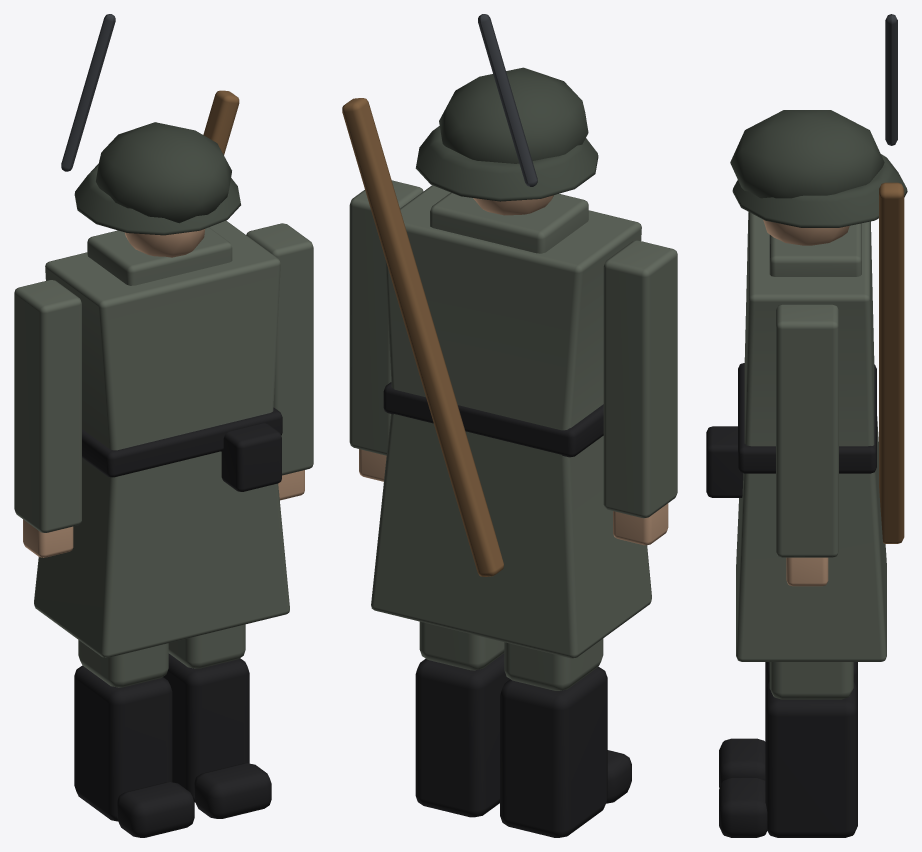
The model's file is soldaat.glb.
The picture shows the model from 3 angles, left to right: view 1: azimuth 30°, elevation 25°; view 2: azimuth 150°, elevation 25°; view 3: azimuth 270°, elevation 25°; orthographic projection. The views are drawn at different scales.
Visible parts, largest first — view 1: Soldaat, LegL, LegR; view 2: Soldaat, LegL, LegR; view 3: Soldaat, LegR, LegL.
Boxes of the visible parts, left/top/right/bottom form: Soldaat: left=14, top=14, right=313, bottom=657; LegL: left=74, top=640, right=194, bottom=837; LegR: left=163, top=624, right=271, bottom=818; Soldaat: left=342, top=14, right=677, bottom=658; LegL: left=500, top=639, right=631, bottom=837; LegR: left=415, top=621, right=509, bottom=817; Soldaat: left=706, top=14, right=907, bottom=661; LegR: left=719, top=662, right=857, bottom=837; LegL: left=719, top=662, right=857, bottom=787.
Bounding box in the file's own units: 0.78 × 2.06 × 0.478.
